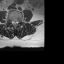CCS_normal: (14, 19, 16, 27)
LFS_normal: (18, 18, 19, 24)
LLS_normal: (15, 19, 17, 26)
RFS_normal: (10, 18, 12, 24)
RLS_normal: (12, 19, 14, 26)
